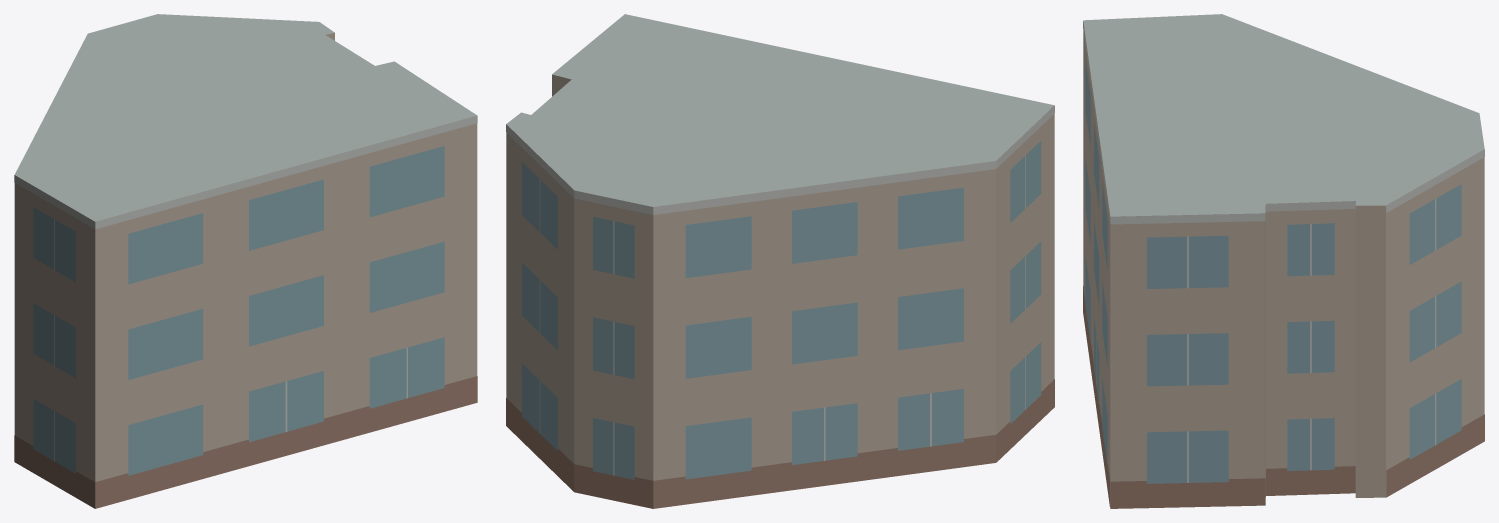
Rendered from survey-upis-32578676.glb.
3 views of the same model, side by side, from view 1: azimuth 30°, elevation 25°; view 2: azimuth 150°, elevation 25°; view 3: azimuth 270°, elevation 25° (orthographic). The views are drawn at different scales.
Visible parts, largest first — view 1: survey-upis-32578676.tmp; view 2: survey-upis-32578676.tmp; view 3: survey-upis-32578676.tmp.
Part boxes in pixels (bbox=[...]): survey-upis-32578676.tmp: bbox=[14, 14, 477, 508]; survey-upis-32578676.tmp: bbox=[506, 14, 1054, 508]; survey-upis-32578676.tmp: bbox=[1083, 14, 1484, 508].
Bounding box in the file's own units: 13.62 × 9.15 × 11.41.
